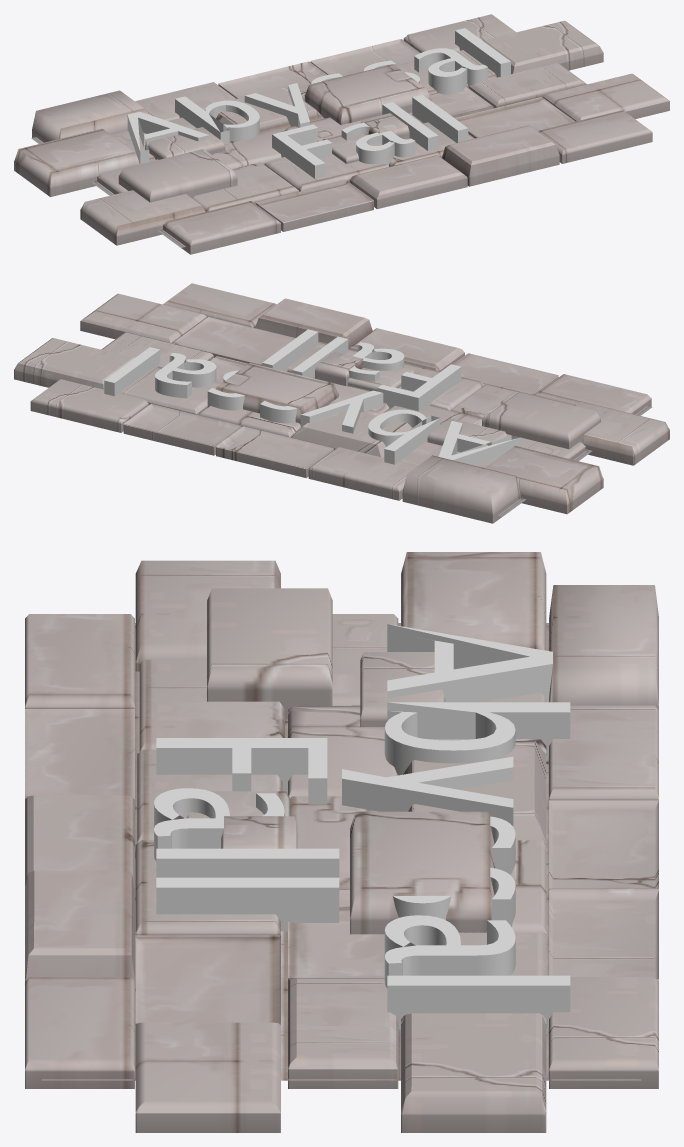
The model's file is Title_Wallwithtitle.fbx.
3 renders of one model, top to bottom at view 1: azimuth 30°, elevation 25°; view 2: azimuth 150°, elevation 25°; view 3: azimuth 270°, elevation 25°, orthographic. The views are drawn at different scales.
Visible parts, largest first — view 1: pCube36, typeMesh1; view 2: pCube36, typeMesh1; view 3: pCube36, typeMesh1.
Boxes of the visible parts, <box> form: pCube36: <box>14,14,669,254</box>; typeMesh1: <box>127,28,510,178</box>; pCube36: <box>14,283,669,523</box>; typeMesh1: <box>104,329,520,465</box>; pCube36: <box>25,552,658,1132</box>; typeMesh1: <box>154,624,570,1029</box>.
Bounding box in the file's own units: 59.03 × 2.93 × 29.3.
Materials: 2 (1 with a texture image).
